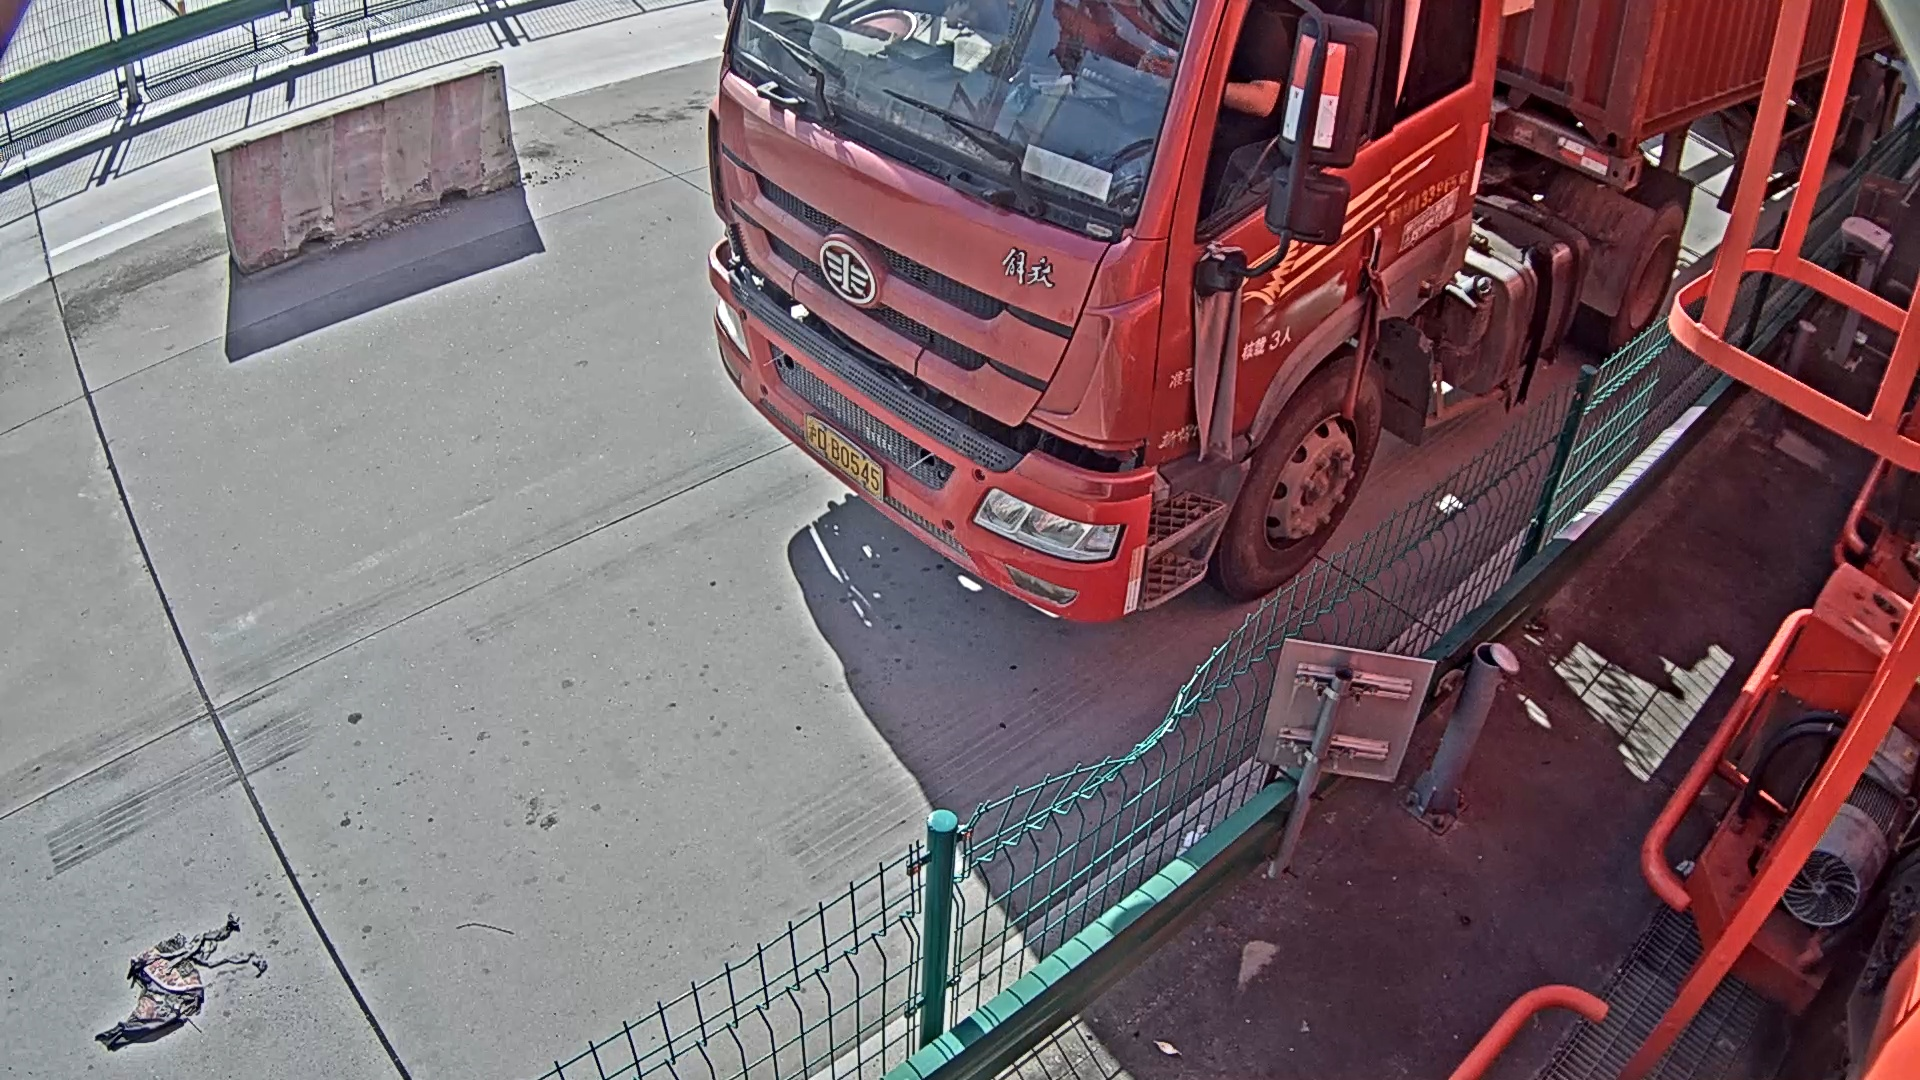head: (708, 2, 1497, 620)
plate: (801, 414, 888, 498)
